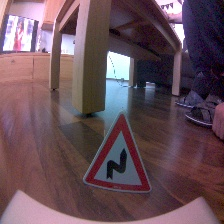vorsicht: (83, 110, 154, 195)
